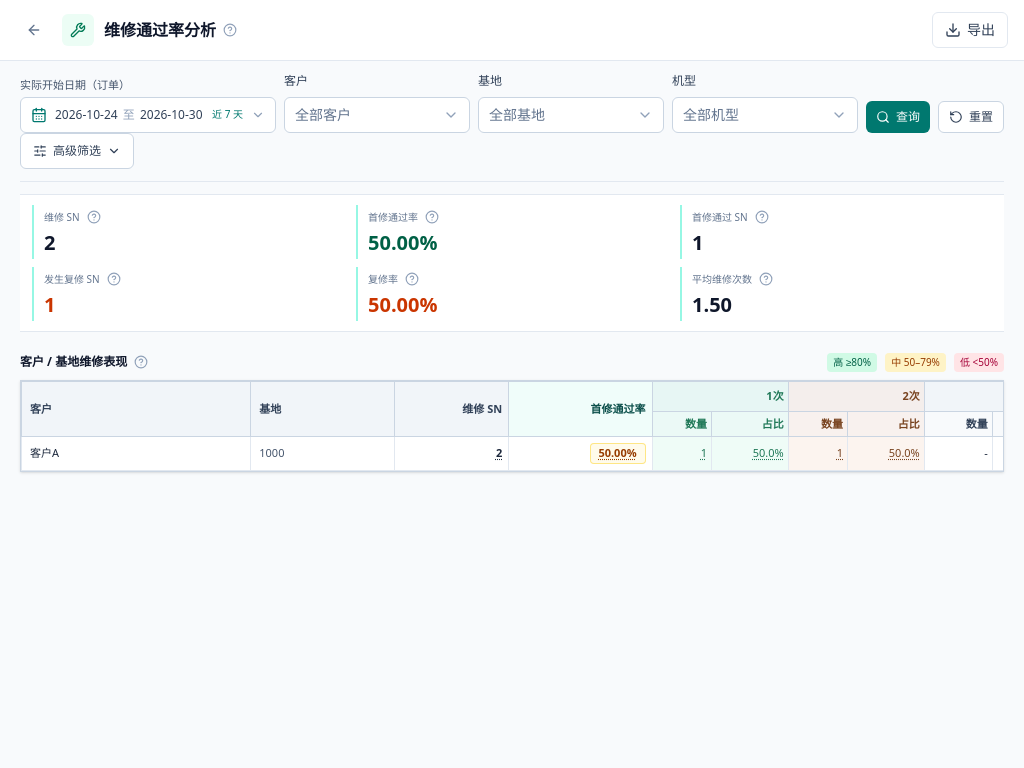
Test: 维修明细 › loads the next page and surfaces detail errors with retry
Click the button named "客户A 1000 全部维修 SN 明细" at (499, 453), box [496,445,502,462]
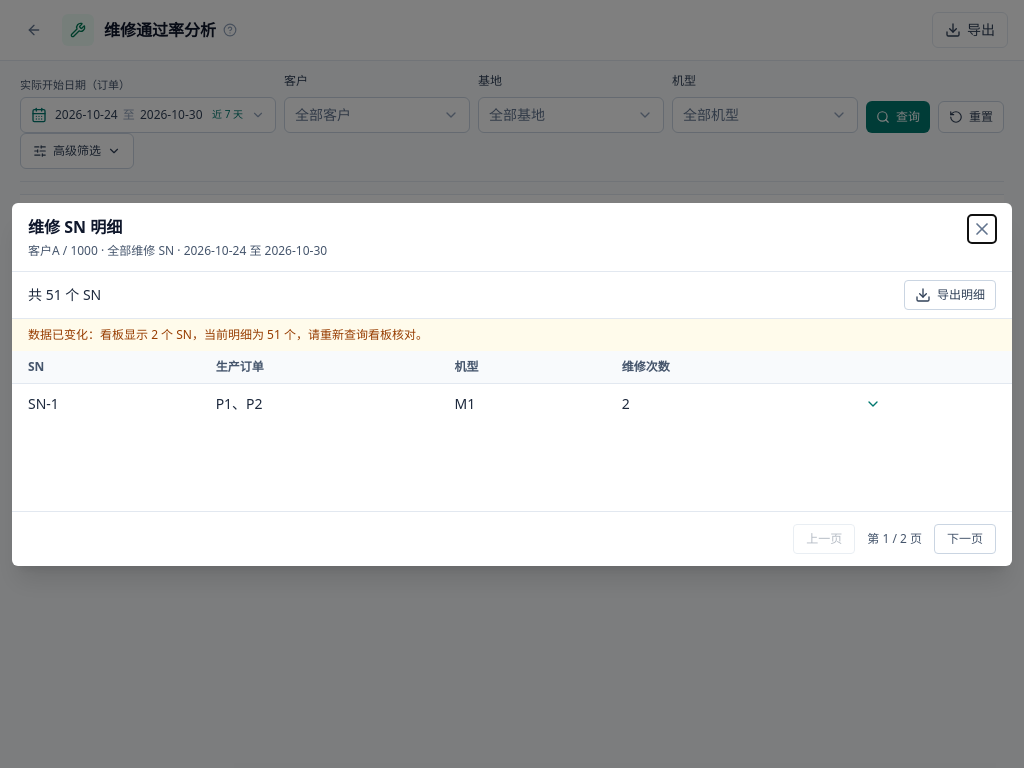
Now the text "SN-1" is shown, box [12,383,200,424]
Now the message shows "数据已变化", box [28,326,151,342]
Click the button "下一页" at (965, 538), box [934,524,996,554]
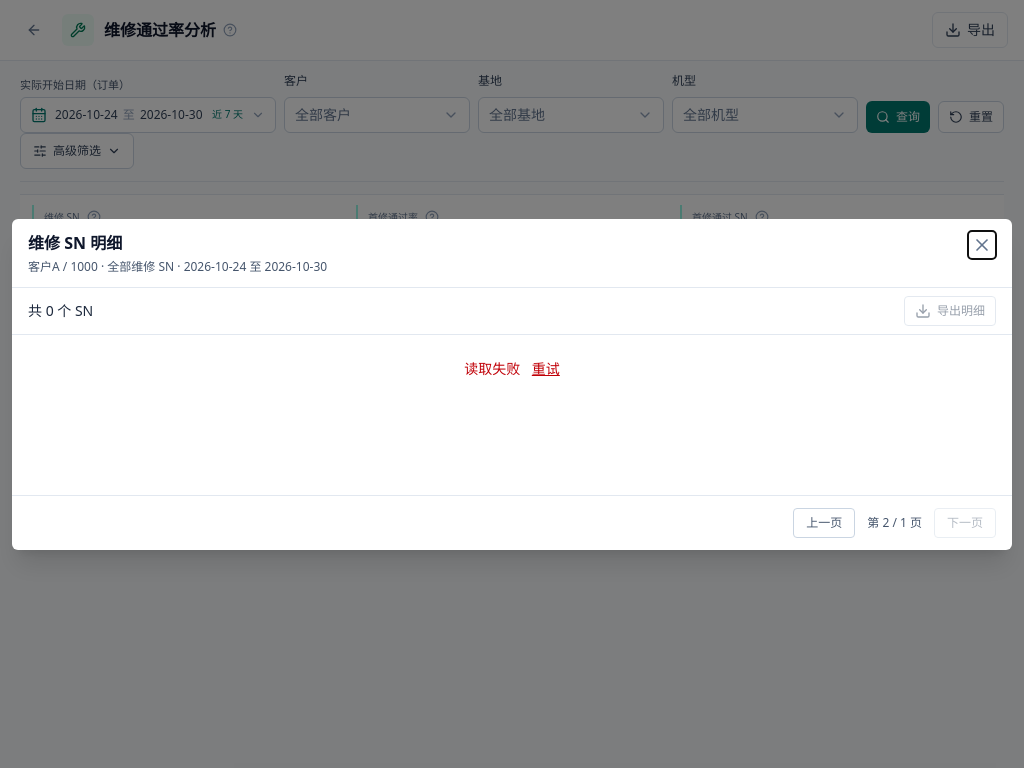
Now the text "读取失败" is shown, box [464,358,520,378]
Click the button "重试" at (546, 368), box [532,358,560,378]
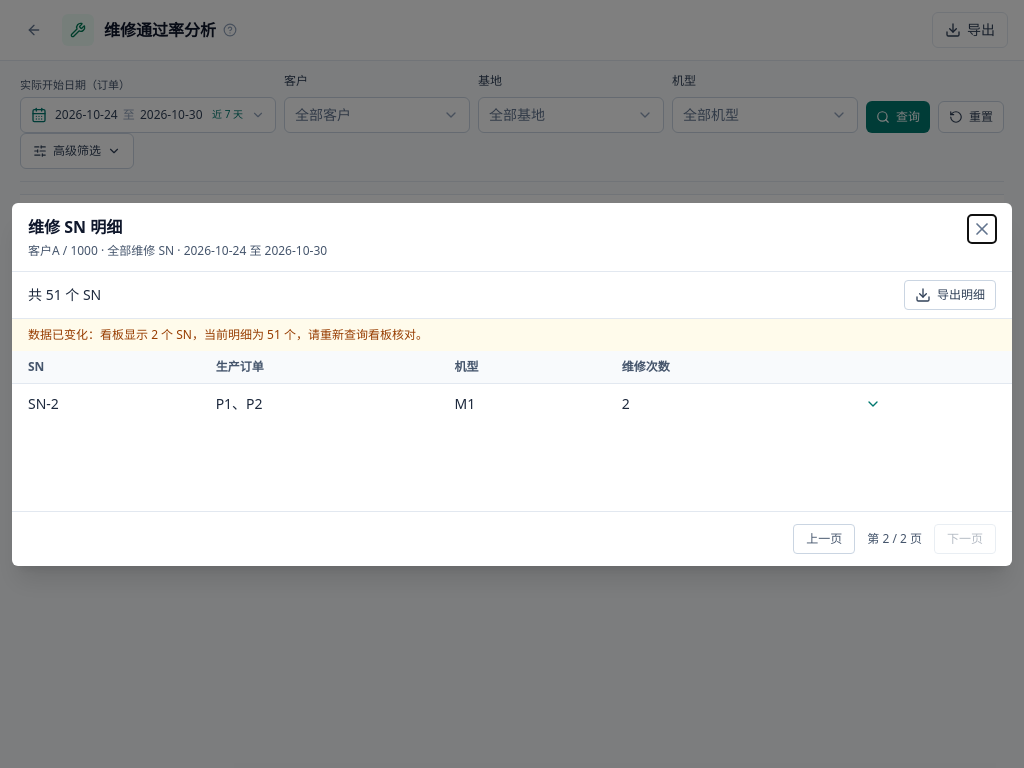
Now the text "SN-2" is shown, box [12,383,200,424]
